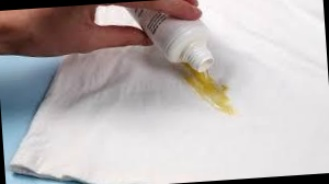mustard: (183, 70, 229, 111)
